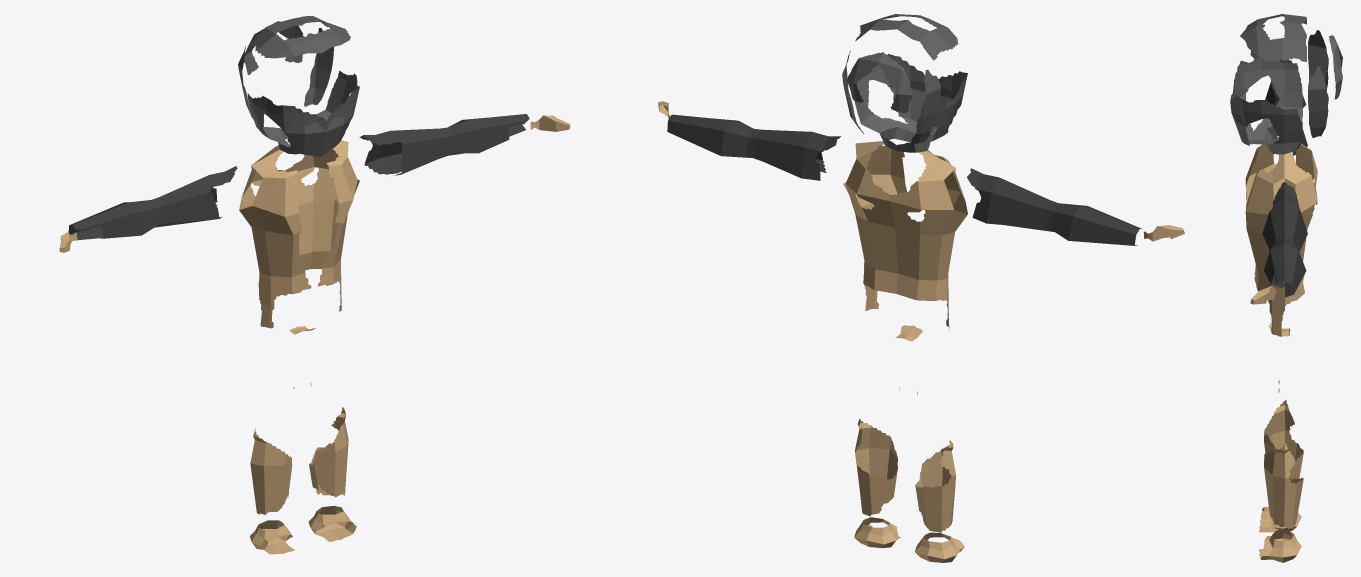
File: Corpo.FBX
The picture shows the model from 3 angles, left to right: view 1: azimuth 30°, elevation 25°; view 2: azimuth 150°, elevation 25°; view 3: azimuth 270°, elevation 25°; orthographic projection. The views are drawn at different scales.
Visible parts, largest first — view 1: Corpo; view 2: Corpo; view 3: Corpo.
Boxes of the visible parts, <box> form: Corpo: <box>59,16,570,554</box>; Corpo: <box>658,14,1184,562</box>; Corpo: <box>1230,14,1342,562</box>.
Bounding box in the file's own units: 156 × 137 × 28.68.
